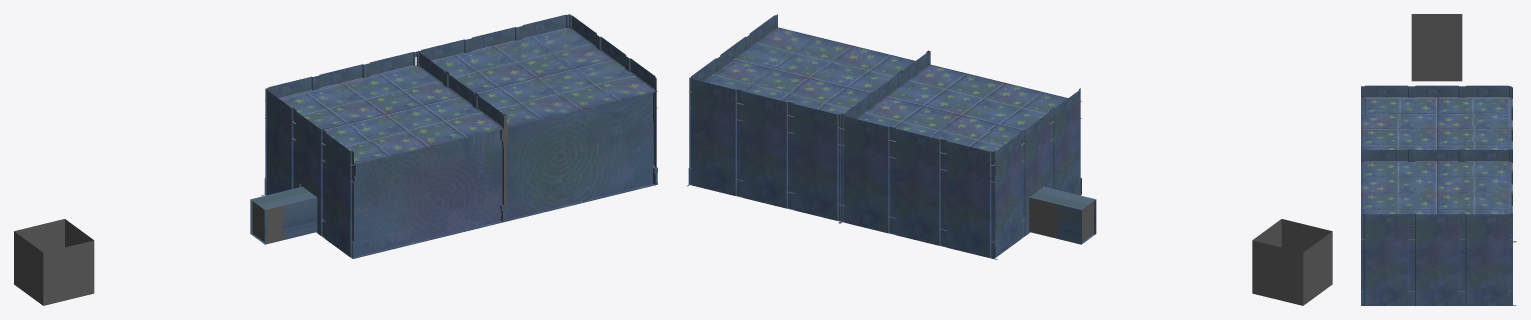
File: las_12_bake.dae
3 renders of one model, left to right at view 1: azimuth 30°, elevation 25°; view 2: azimuth 150°, elevation 25°; view 3: azimuth 270°, elevation 25°, orthographic. The views are drawn at different scales.
Visible parts, largest first — view 1: pCube4_q00011, pCube1_q00009, pCube1_q00231, polySurface204_q00000, pCube3_q00198, pCube3_q00197, pCube3_q00196, polySurface216_q00002, pCube3_q00184, pCube1_q00232, pCube3_q00186, pCube3_q00187 (+6 smaller); view 2: pCube1_q00231, pCube1_q00009, pCube3_q00187, pCube3_q00184, pCube3_q00182, pCube3_q00185, pCube3_q00183, pCube3_q00186, polySurface204_q00000, pCube3_q00198, pCube3_q00196, pCube3_q00197 (+4 smaller); view 3: pCube1_q00231, pCube1_q00009, pCube3_q00210, pCube3_q00208, pCube3_q00209, e_bero_1, polySurface204_q00000, pCube3_q00198, pCube3_q00197, pCube3_q00196, pCube3_q00225, pCube3_q00226 (+1 smaller).
Part boxes in pixels (left/top/right/bottom): pCube4_q00011: left=354, top=93, right=652, bottom=256; pCube1_q00009: left=280, top=29, right=649, bottom=163; pCube1_q00231: left=265, top=28, right=657, bottom=165; polySurface204_q00000: left=14, top=219, right=94, bottom=305; pCube3_q00198: left=250, top=109, right=325, bottom=244; pCube3_q00197: left=324, top=131, right=353, bottom=257; pCube3_q00196: left=266, top=89, right=294, bottom=195; polySurface216_q00002: left=252, top=201, right=289, bottom=243; pCube3_q00184: left=261, top=76, right=315, bottom=195; pCube1_q00232: left=351, top=183, right=655, bottom=258; pCube3_q00186: left=468, top=26, right=519, bottom=52; pCube3_q00187: left=519, top=14, right=570, bottom=39; pCube1_q00231: left=689, top=27, right=1081, bottom=165; pCube1_q00009: left=706, top=29, right=1058, bottom=151; pCube3_q00187: left=689, top=77, right=740, bottom=196; pCube3_q00184: left=943, top=140, right=997, bottom=259; pCube3_q00182: left=893, top=127, right=946, bottom=247; pCube3_q00185: left=791, top=102, right=841, bottom=221; pCube3_q00183: left=842, top=115, right=892, bottom=233; pCube3_q00186: left=740, top=90, right=790, bottom=208; polySurface204_q00000: left=1252, top=219, right=1332, bottom=305; pCube3_q00198: left=1022, top=110, right=1096, bottom=244; pCube3_q00196: left=993, top=131, right=1024, bottom=257; pCube3_q00197: left=1051, top=88, right=1080, bottom=195; pCube1_q00231: left=1361, top=97, right=1512, bottom=225; pCube1_q00009: left=1364, top=98, right=1509, bottom=214; pCube3_q00210: left=1411, top=213, right=1462, bottom=305; pCube3_q00208: left=1361, top=213, right=1411, bottom=305; pCube3_q00209: left=1462, top=213, right=1516, bottom=305; e_bero_1: left=1411, top=35, right=1462, bottom=81; polySurface204_q00000: left=1411, top=14, right=1462, bottom=35; pCube3_q00198: left=1411, top=85, right=1462, bottom=97; pCube3_q00197: left=1361, top=85, right=1411, bottom=97; pCube3_q00196: left=1462, top=85, right=1511, bottom=97; pCube3_q00225: left=1411, top=150, right=1462, bottom=161; pCube3_q00226: left=1361, top=150, right=1411, bottom=161.
Bounding box in the file's own units: 115 × 20 × 30.75.
